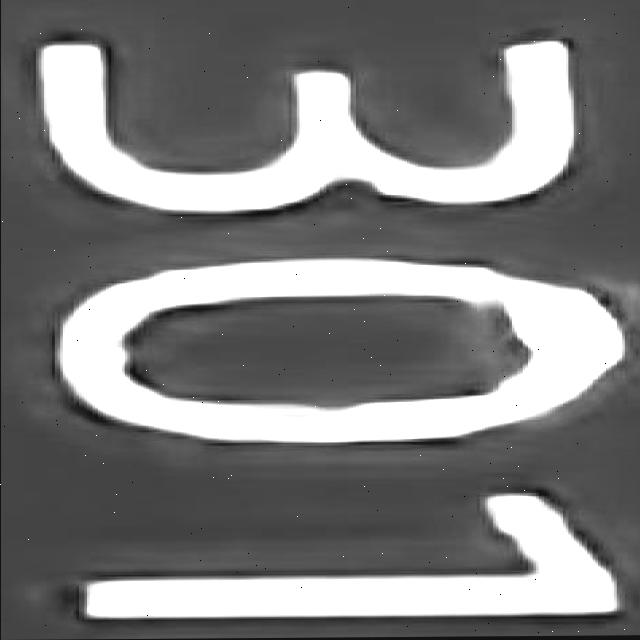character: (44, 251, 622, 449), (25, 28, 588, 222), (61, 490, 633, 631)
